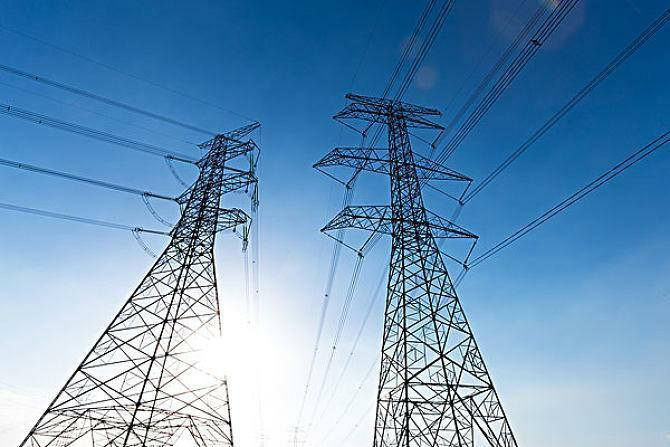power_tower: (21, 108, 272, 445), (315, 86, 522, 447)
